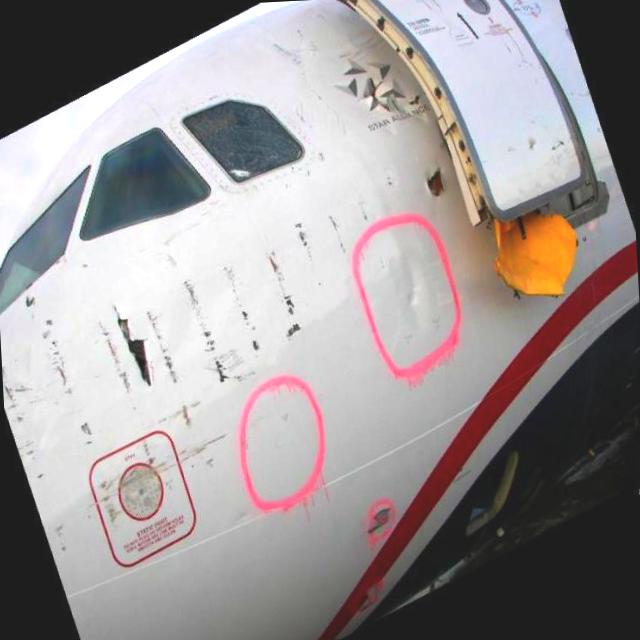crack: (112, 308, 156, 390), (423, 166, 448, 200)
dent: (390, 248, 430, 326)
